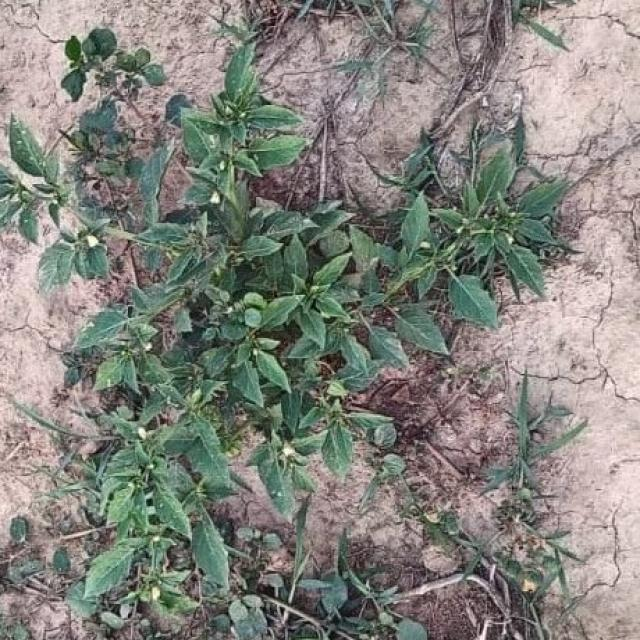weed: (0, 29, 568, 616)
